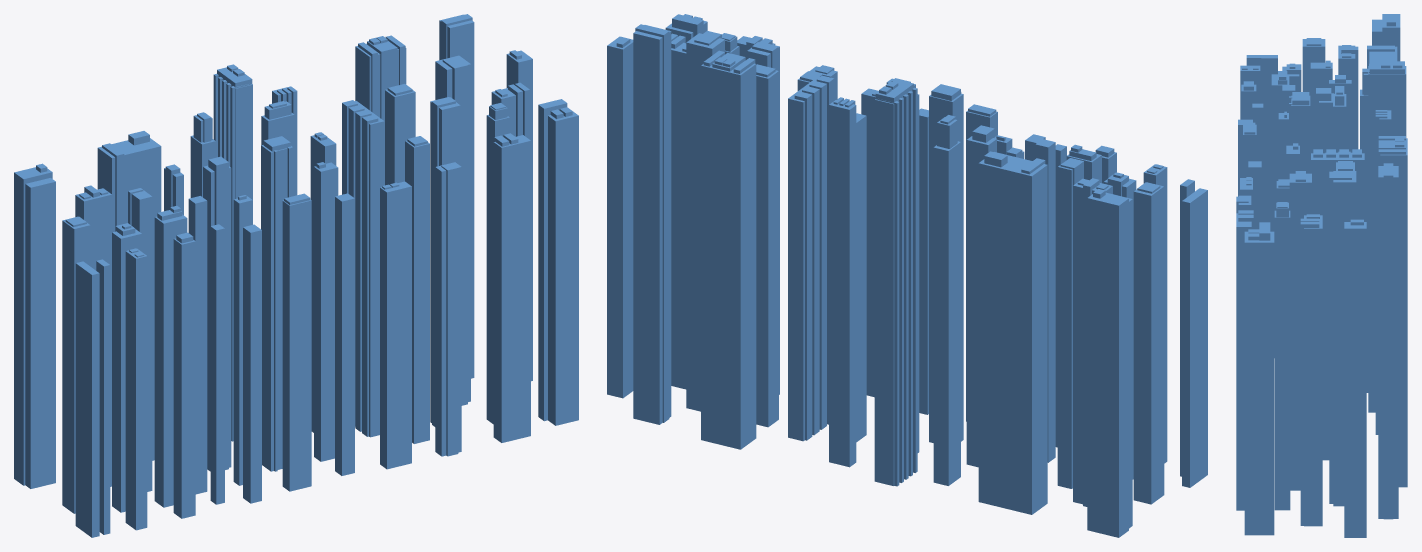
The model's file is BackgroundCity 02.FBX.
3 views of the same model, side by side, from view 1: azimuth 30°, elevation 25°; view 2: azimuth 150°, elevation 25°; view 3: azimuth 270°, elevation 25° (orthographic). The views are drawn at different scales.
Visible parts, largest first — view 1: Box011; view 2: Box011; view 3: Box011.
Boxes of the visible parts, box(x1,y1,x2,y2) form: Box011: box(14, 14, 578, 537); Box011: box(607, 14, 1207, 537); Box011: box(1236, 14, 1407, 537).
Size of the model in its own units: 702 by 491 by 221.
